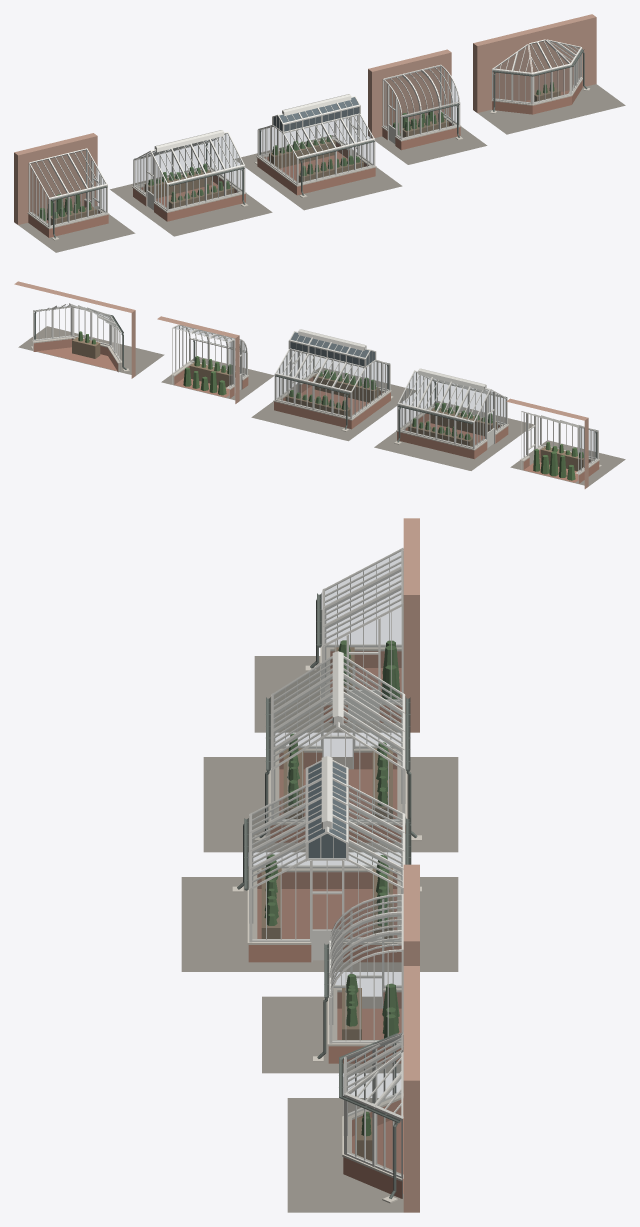
Rendered from k13_conservatory_kit.glb.
3 views of the same model, one above another, from view 1: azimuth 30°, elevation 25°; view 2: azimuth 150°, elevation 25°; view 3: azimuth 270°, elevation 25° (orthographic). The views are drawn at different scales.
Parts seen in each view (by area): view 1: k13.bay.canted, k13.house.span_lantern, k13.house.span, k13.house.lean_to, k13.house.curvilinear_lean_to; view 2: k13.house.span_lantern, k13.house.span, k13.bay.canted, k13.house.lean_to, k13.house.curvilinear_lean_to; view 3: k13.house.span_lantern, k13.house.span, k13.bay.canted, k13.house.curvilinear_lean_to, k13.house.lean_to.
Boxes of the visible parts, bbox=[...] form: k13.bay.canted: bbox=[473, 14, 625, 134]; k13.house.span_lantern: bbox=[234, 94, 402, 210]; k13.house.span: bbox=[110, 130, 272, 236]; k13.house.lean_to: bbox=[14, 133, 135, 252]; k13.house.curvilinear_lean_to: bbox=[368, 49, 487, 164]; k13.house.span_lantern: bbox=[251, 329, 417, 441]; k13.house.span: bbox=[374, 368, 533, 470]; k13.bay.canted: bbox=[14, 281, 164, 378]; k13.house.lean_to: bbox=[506, 398, 625, 488]; k13.house.curvilinear_lean_to: bbox=[157, 316, 274, 403]; k13.house.span_lantern: bbox=[181, 756, 458, 971]; k13.house.span: bbox=[203, 651, 458, 852]; k13.bay.canted: bbox=[287, 966, 419, 1212]; k13.house.curvilinear_lean_to: bbox=[262, 864, 419, 1073]; k13.house.lean_to: bbox=[254, 518, 419, 732].
Bounding box in the file's own units: 36.18 × 4.17 × 7.59.
